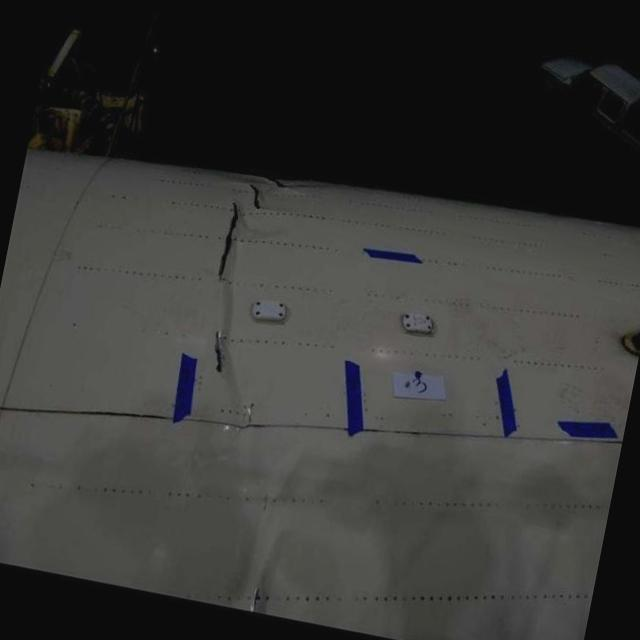crack: (212, 198, 248, 284), (244, 184, 268, 215)
